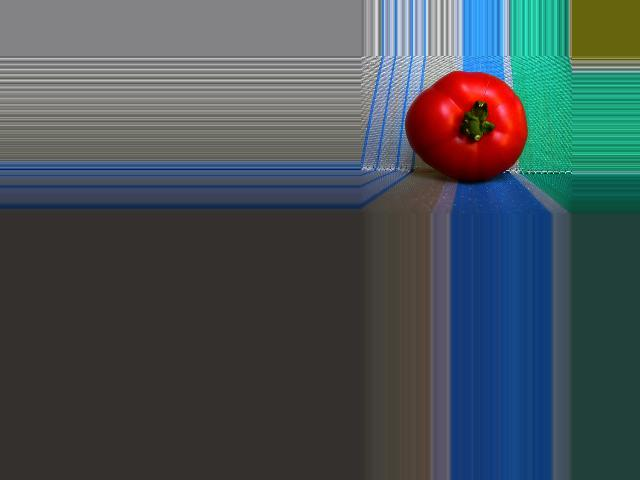tomato: (406, 71, 527, 182)
